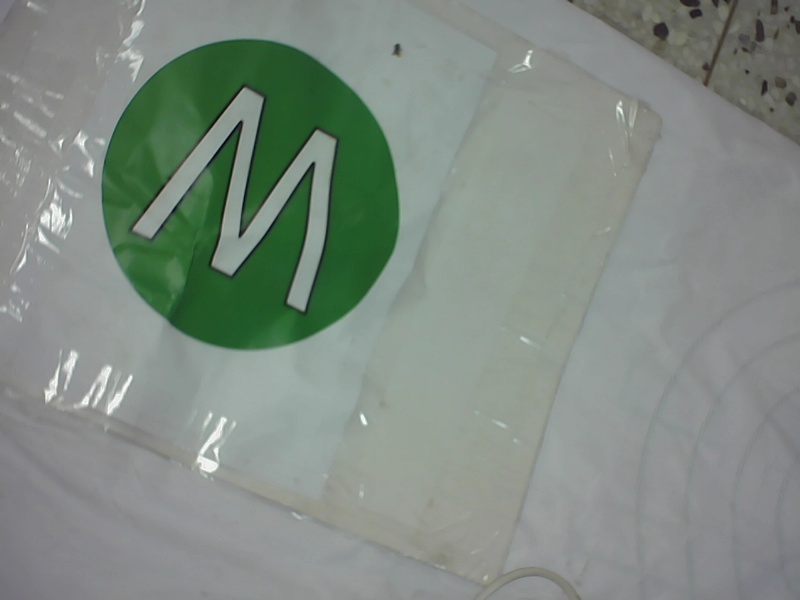areaB: (95, 36, 413, 357)
